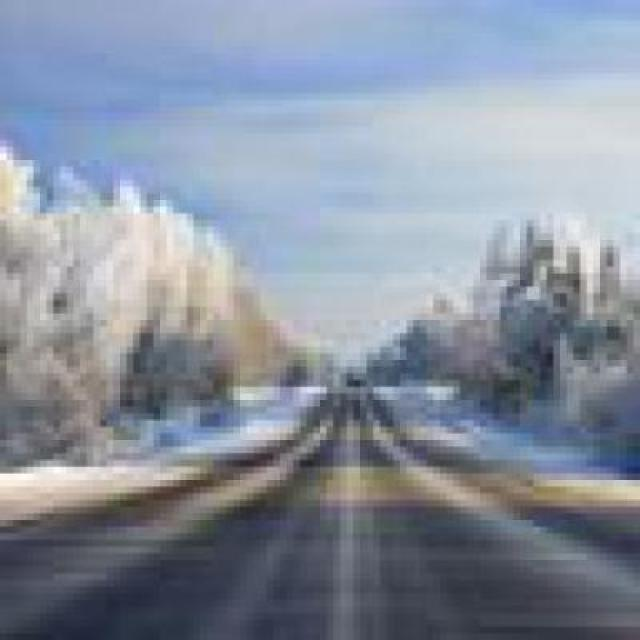ice-road: (0, 400, 640, 640)
